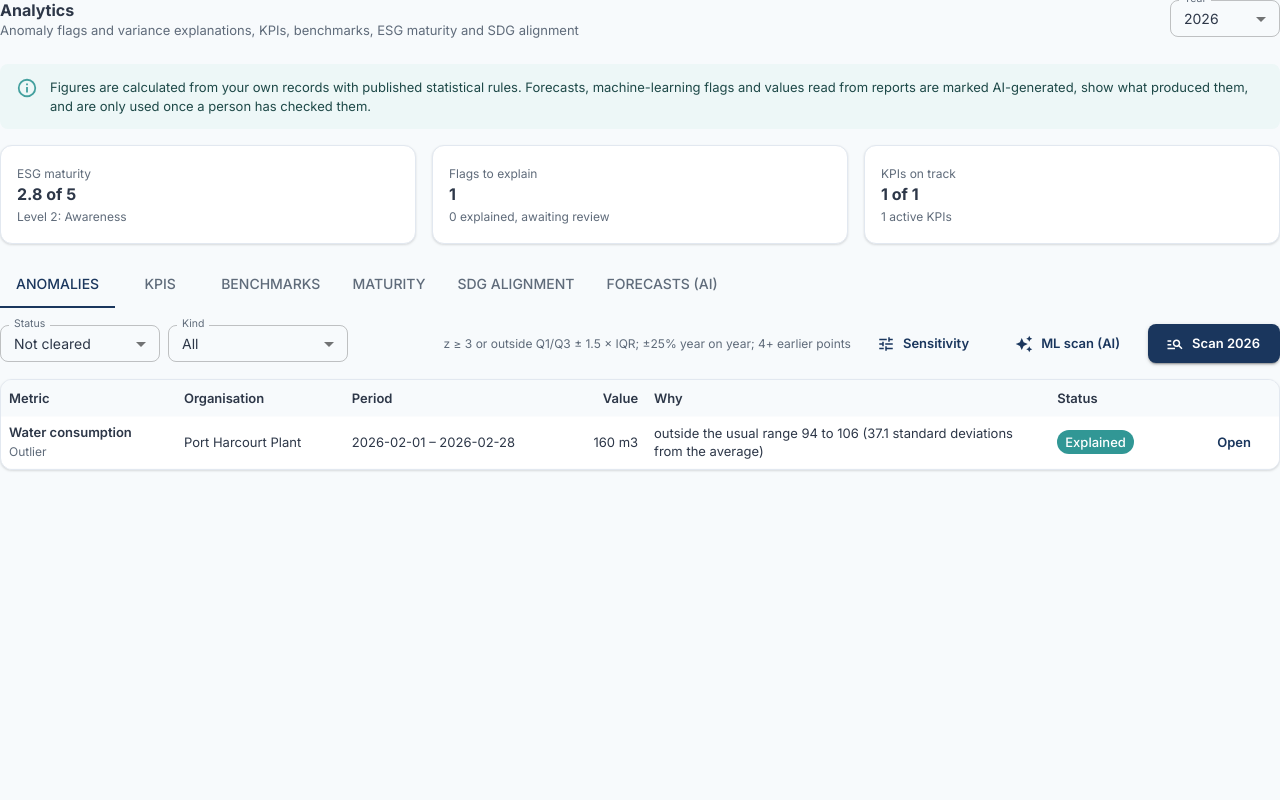
Test case: Analytics page › shows why an approver cannot accept their own explanation
What coordinates should you click on to do the following:
click the button with aria-label "Open Water consumption"
I would click on:
 (1234, 442)
Its box is [1197,423,1271,462].
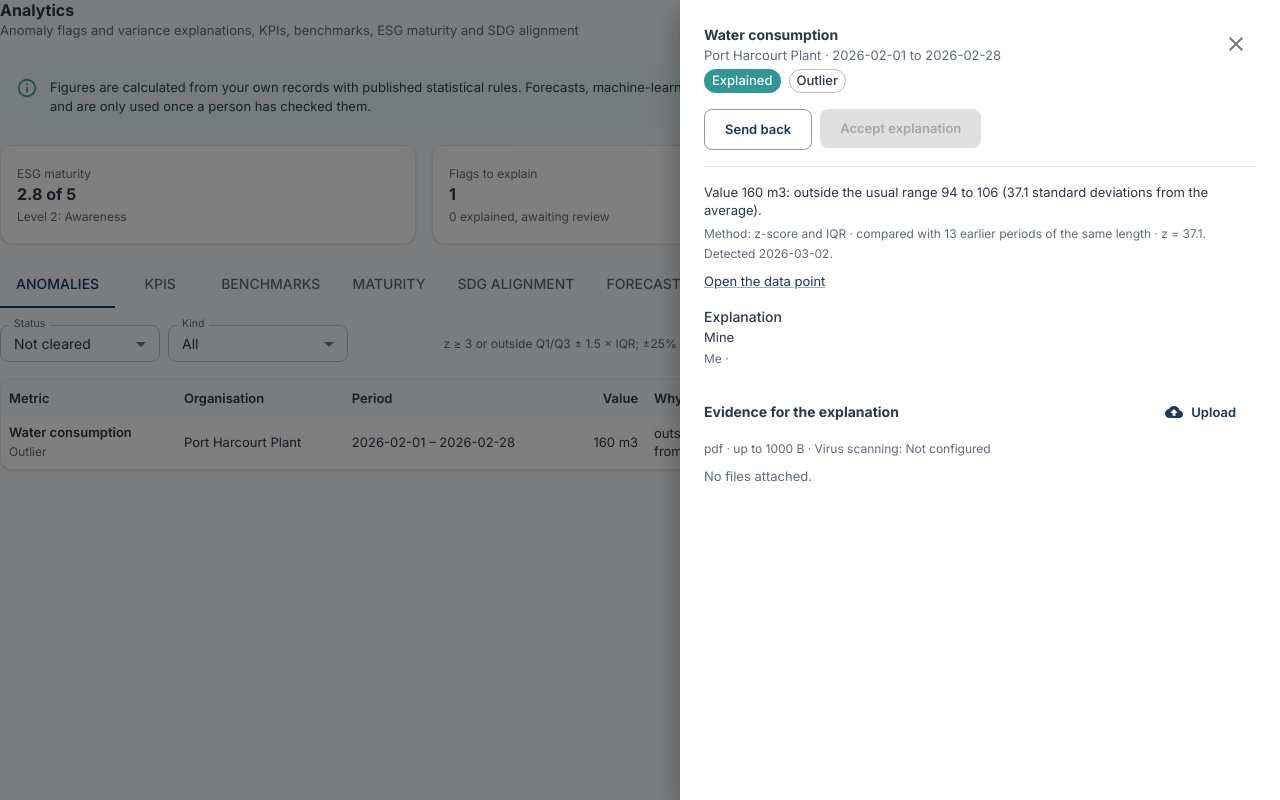
Expected: the button "Accept explanation" is disabled, [820,109,981,148]
Expected: the element labelled "Explanation" shows "Mine", [704,329,734,345]
